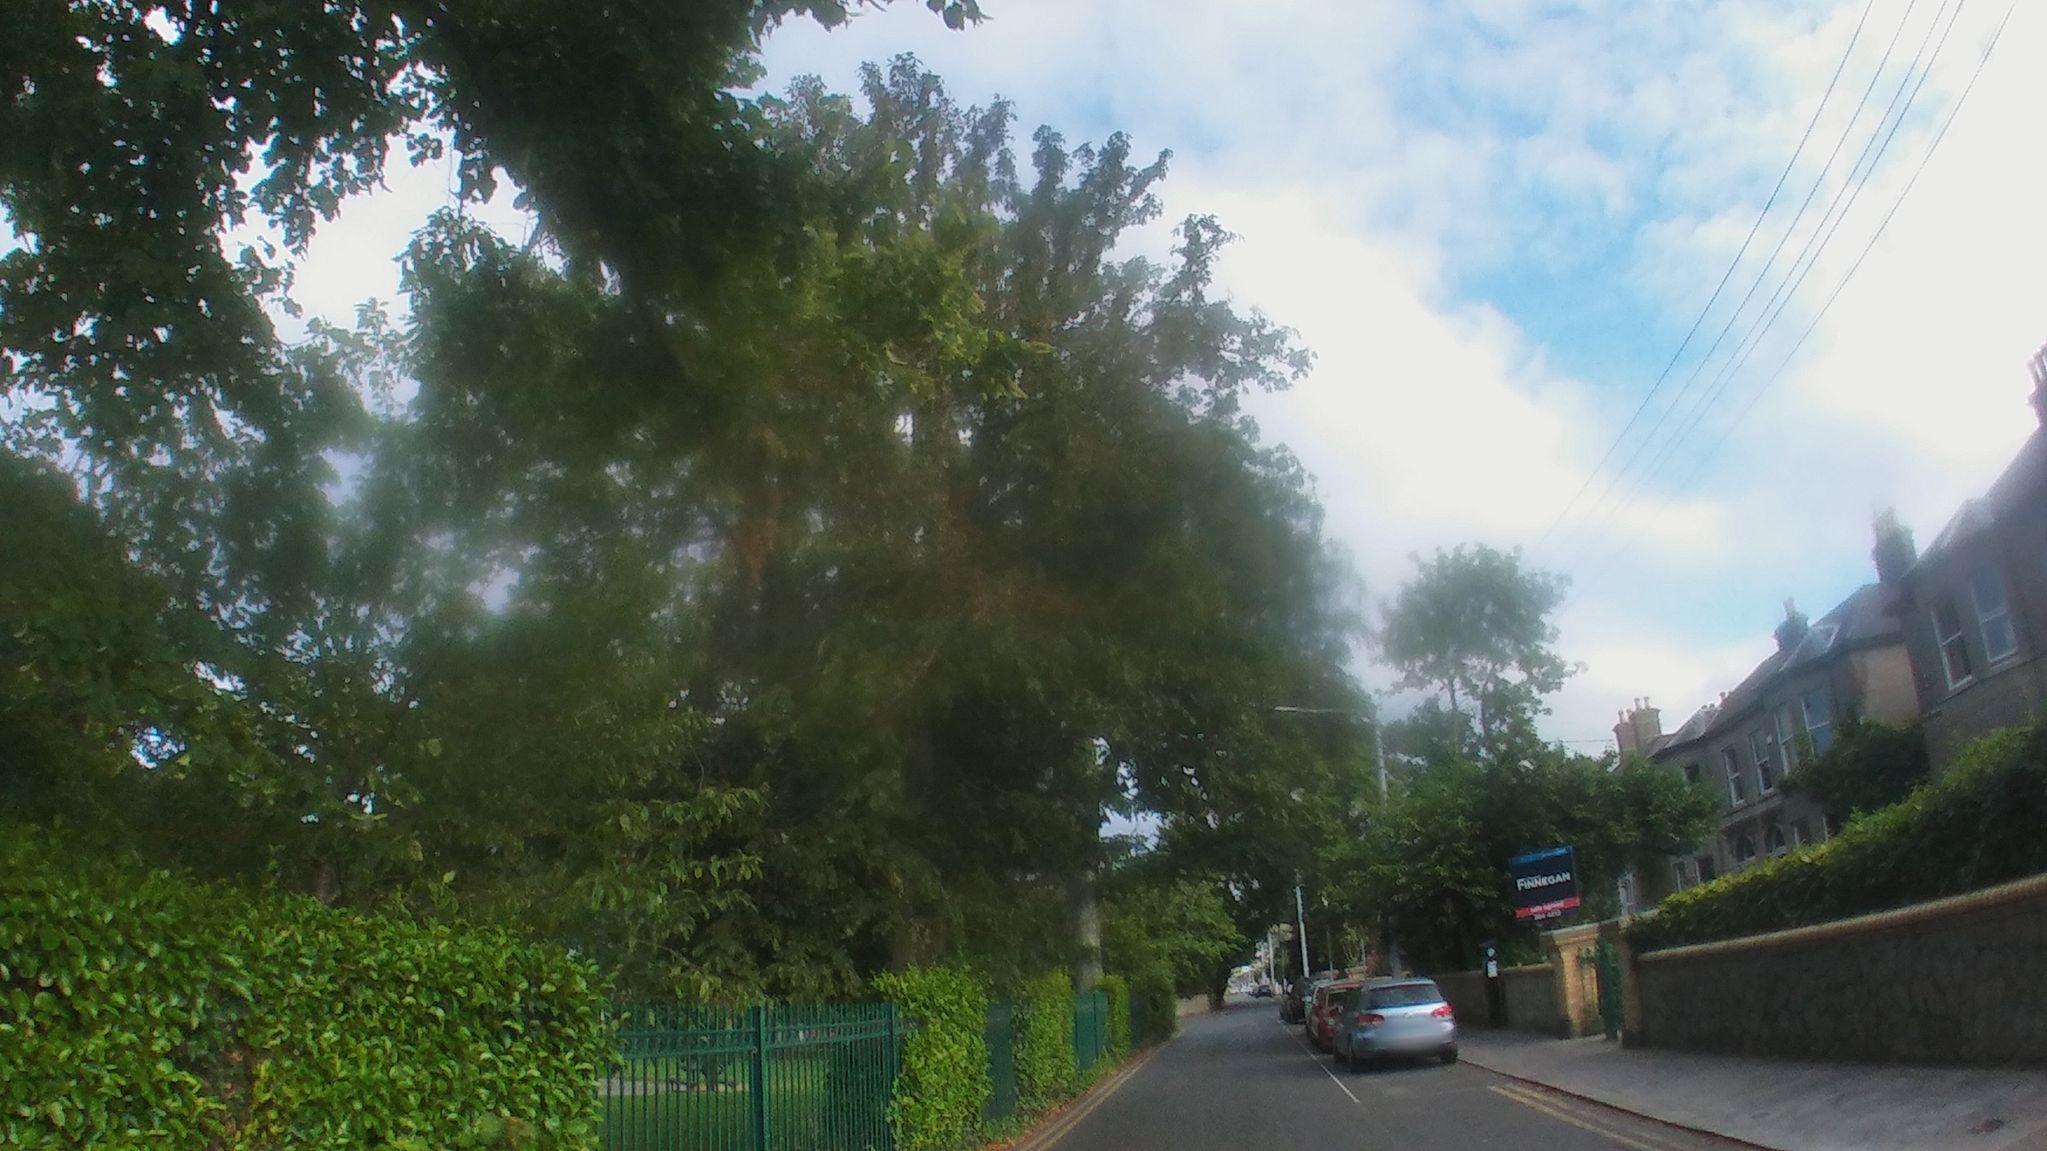property sign: (1492, 840, 1594, 928)
